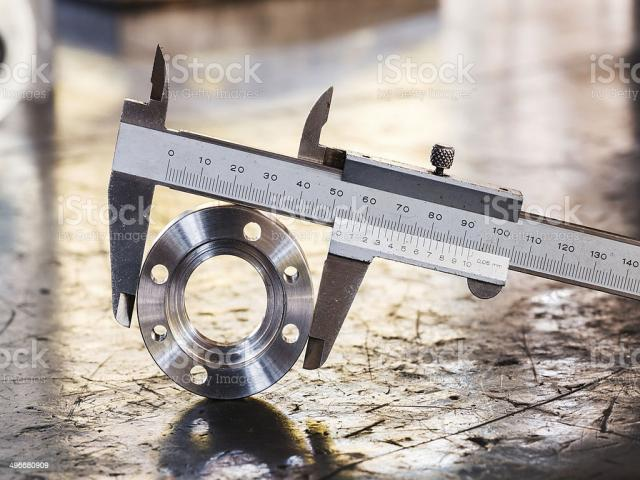Calipers: (109, 46, 640, 368)
